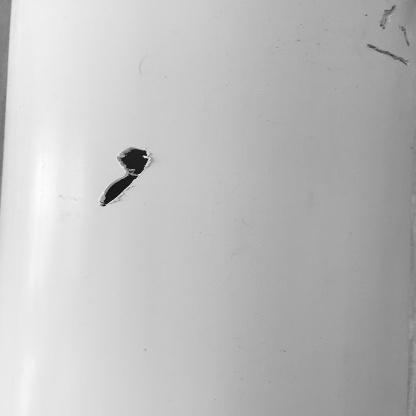kongdong: (88, 144, 153, 211)
sunshang: (359, 35, 410, 71), (374, 1, 416, 38)
